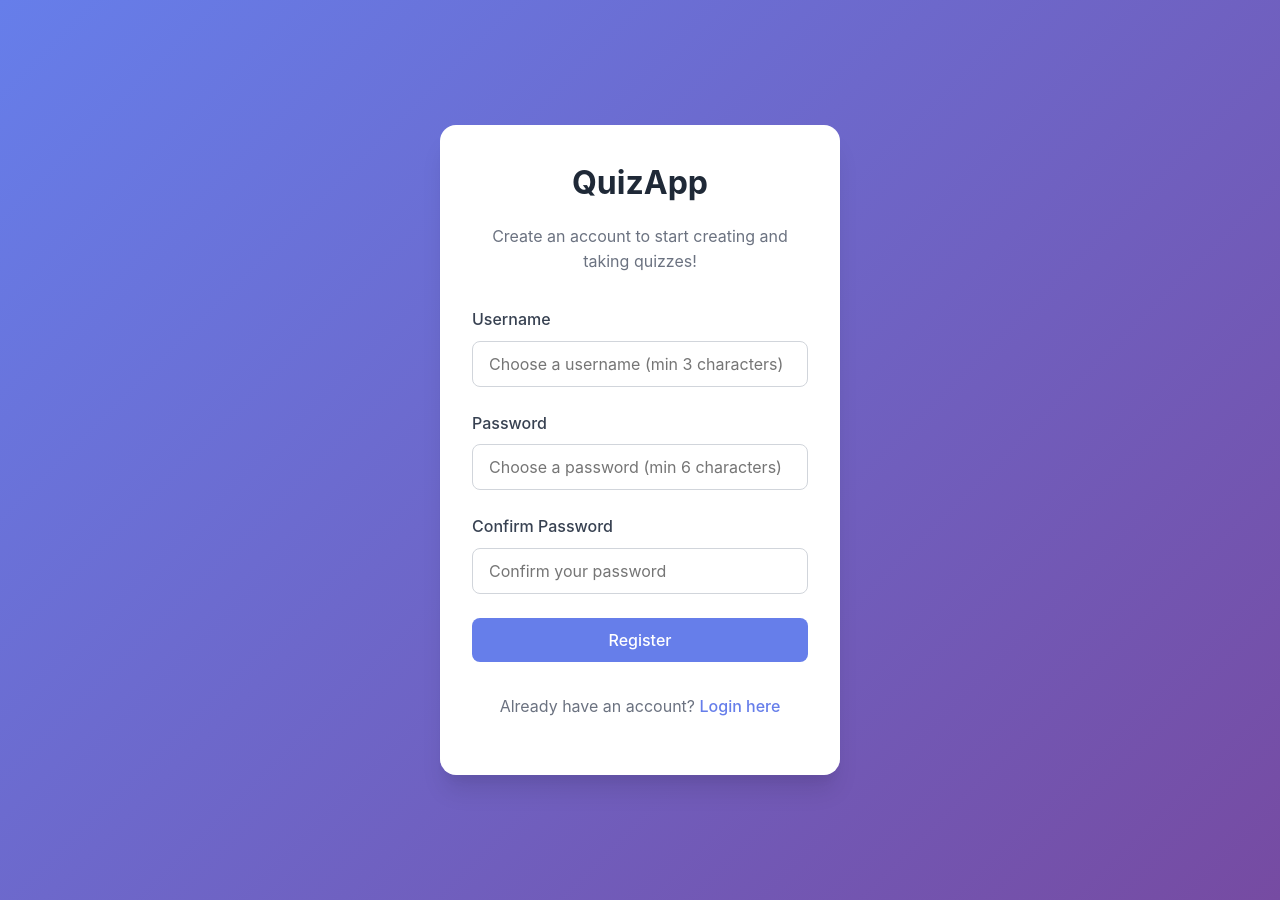
Test: Register › shows error when submitting empty username
The width and height of the screenshot is (1280, 900).
Click the button "Register": (640, 640) 472,618 -> 808,662
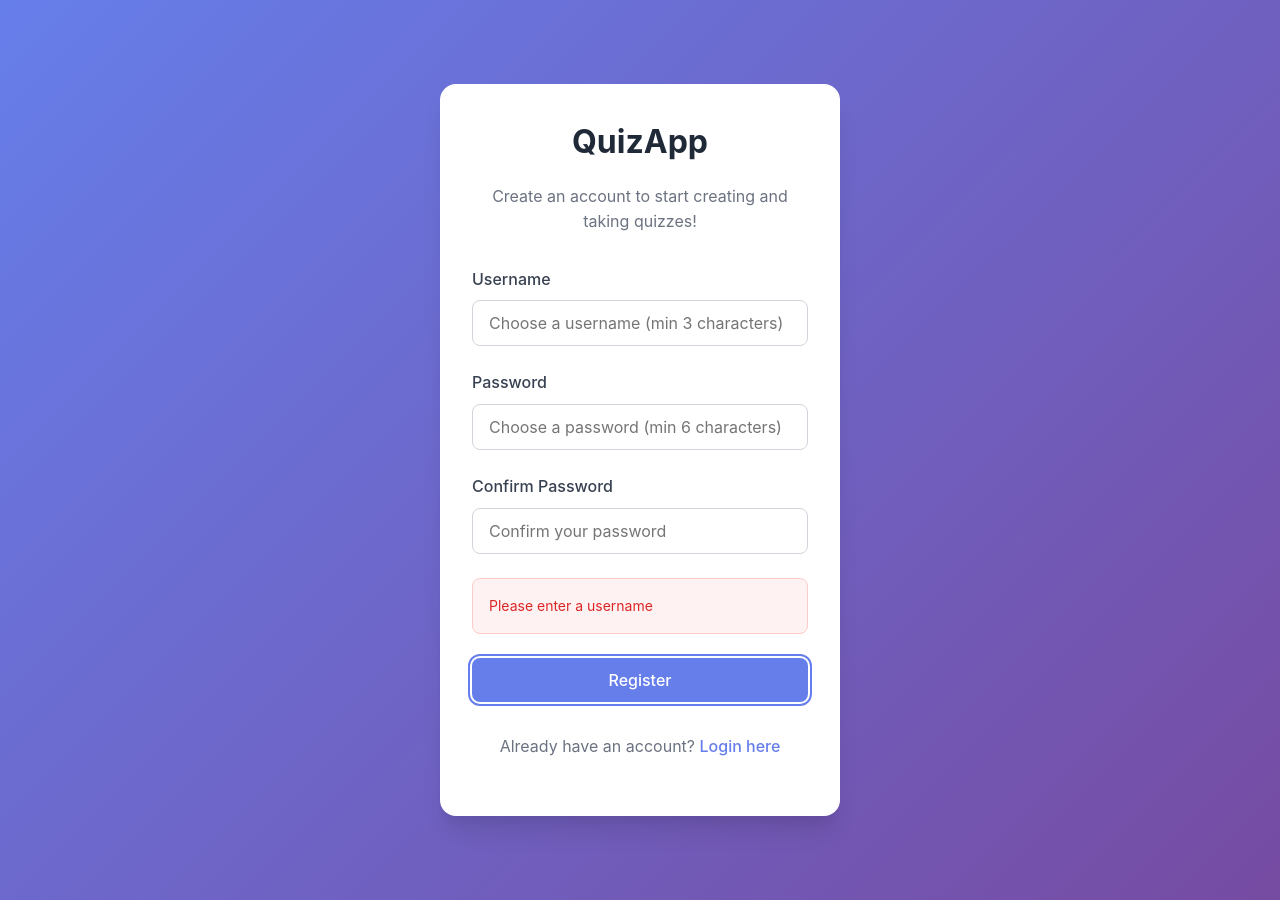
Result: the message reads "Please enter a username" at 489,597 -> 653,614
